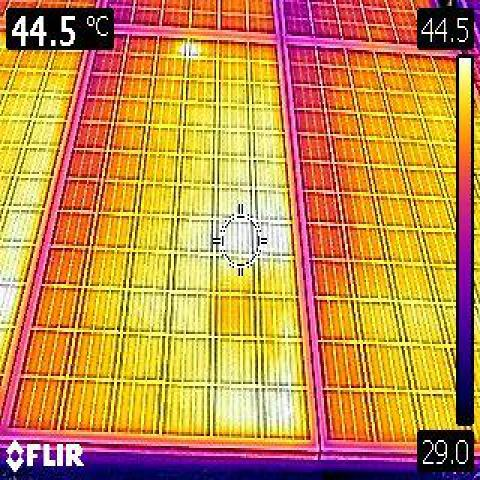fault: (210, 386, 311, 433), (0, 246, 22, 337), (267, 213, 293, 266), (176, 38, 200, 56)
